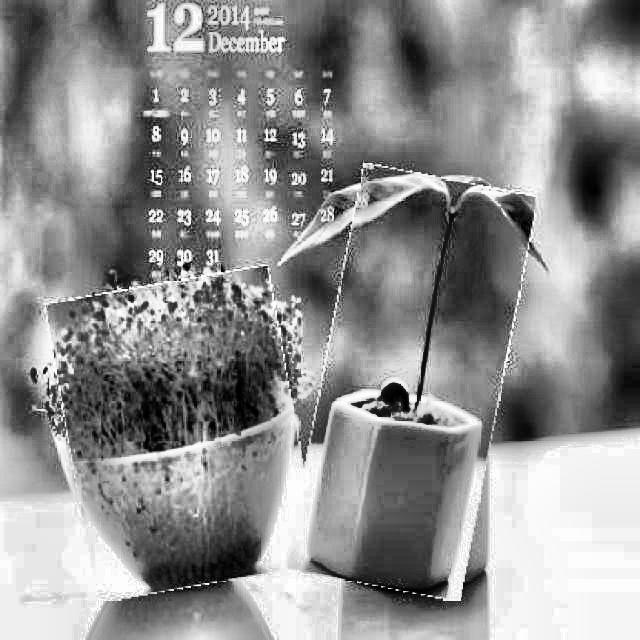plants: (304, 170, 520, 596), (57, 273, 308, 593)
